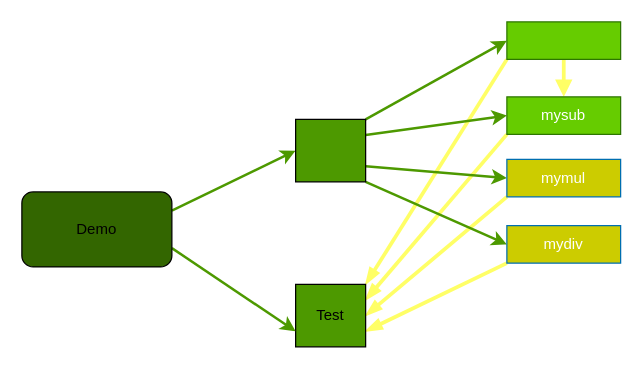
Image size: 643x369. Some labels were removed from this diagram. Here are the shapes that lost their labels. From the top down, the centre of each, then its label:
At (563,40): "myadd".
At (330,150): "Ext".
